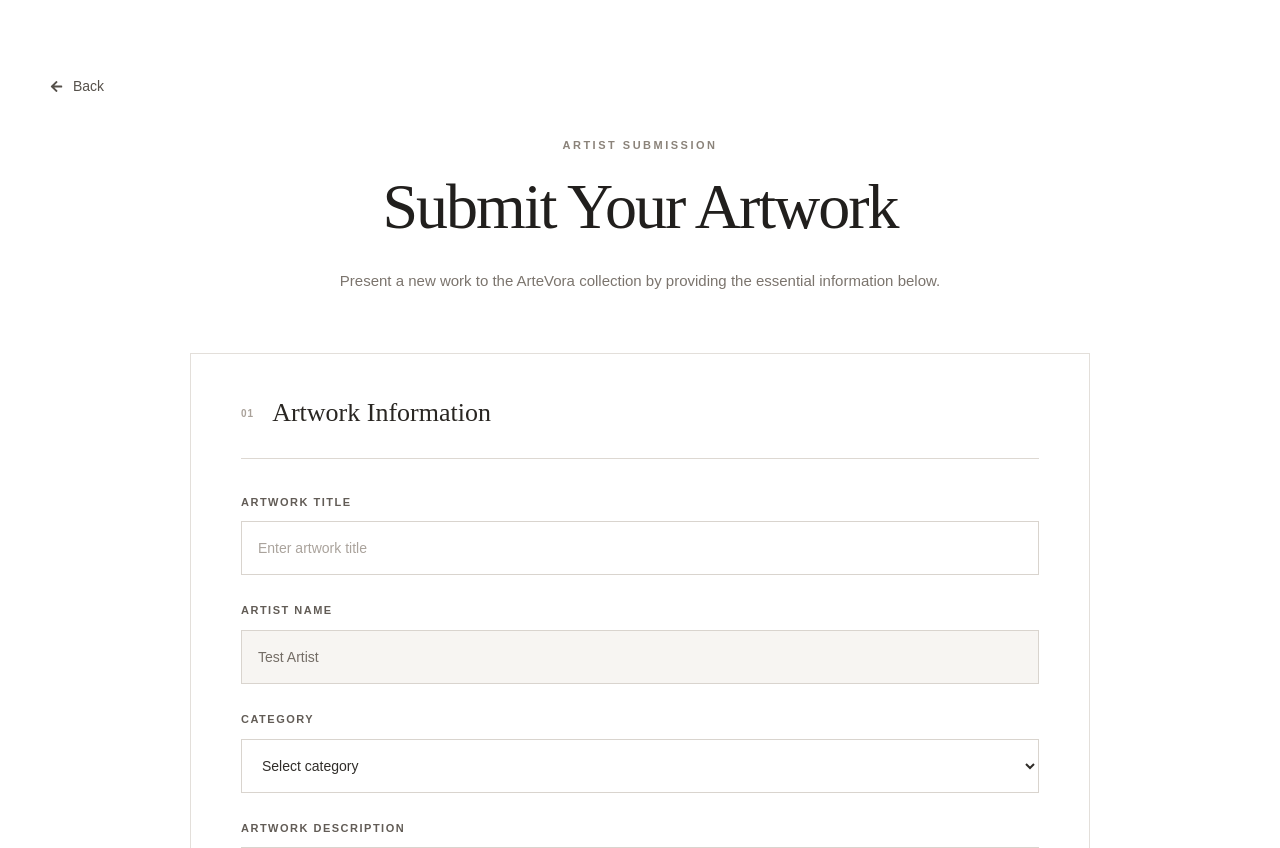
Test: Login page › should show validation error when artwork story is empty
In the field labelled "Artwork Title": (640, 548) [241,522,1039,576], type "Test Artwork"
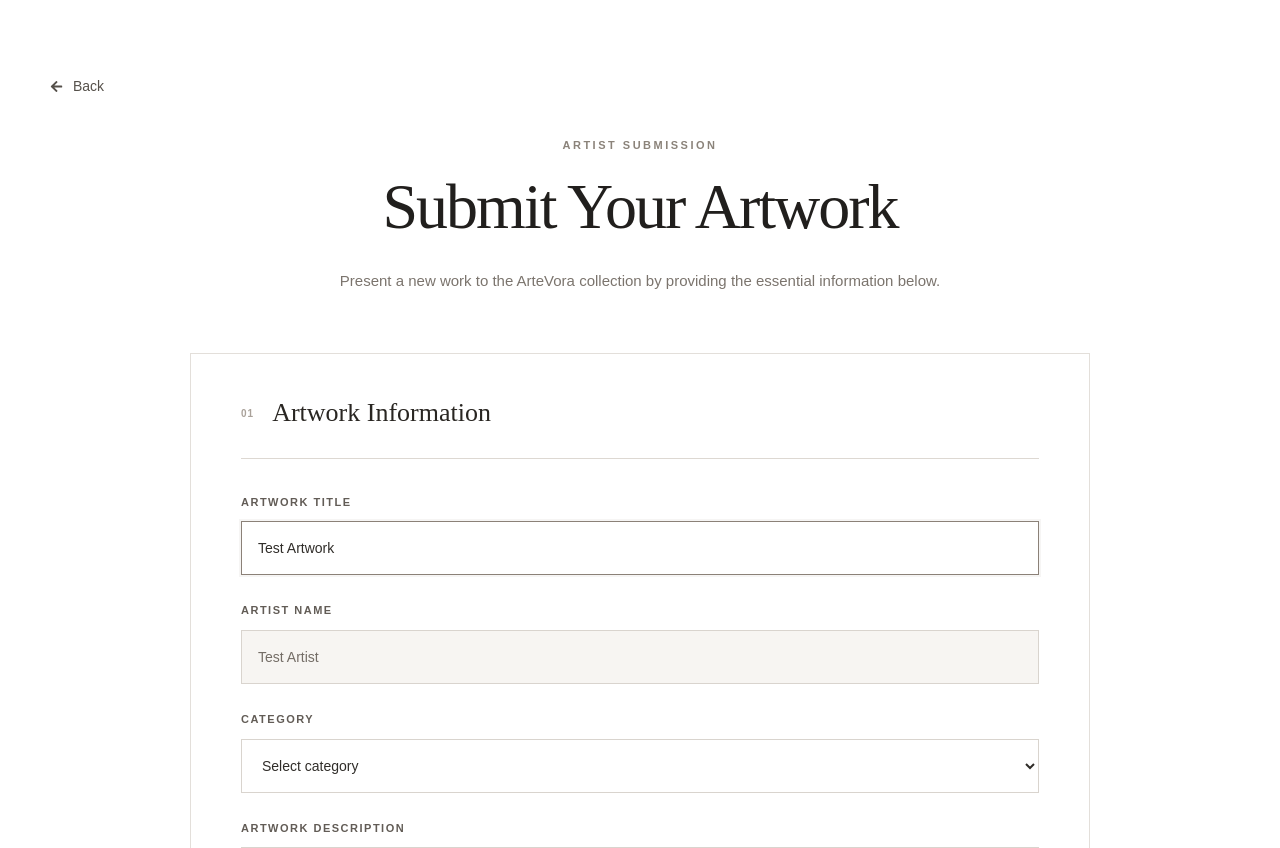
Select "Paintings" in the dropdown labelled "Category": (640, 766) [241,739,1039,793]
(page scrolled)
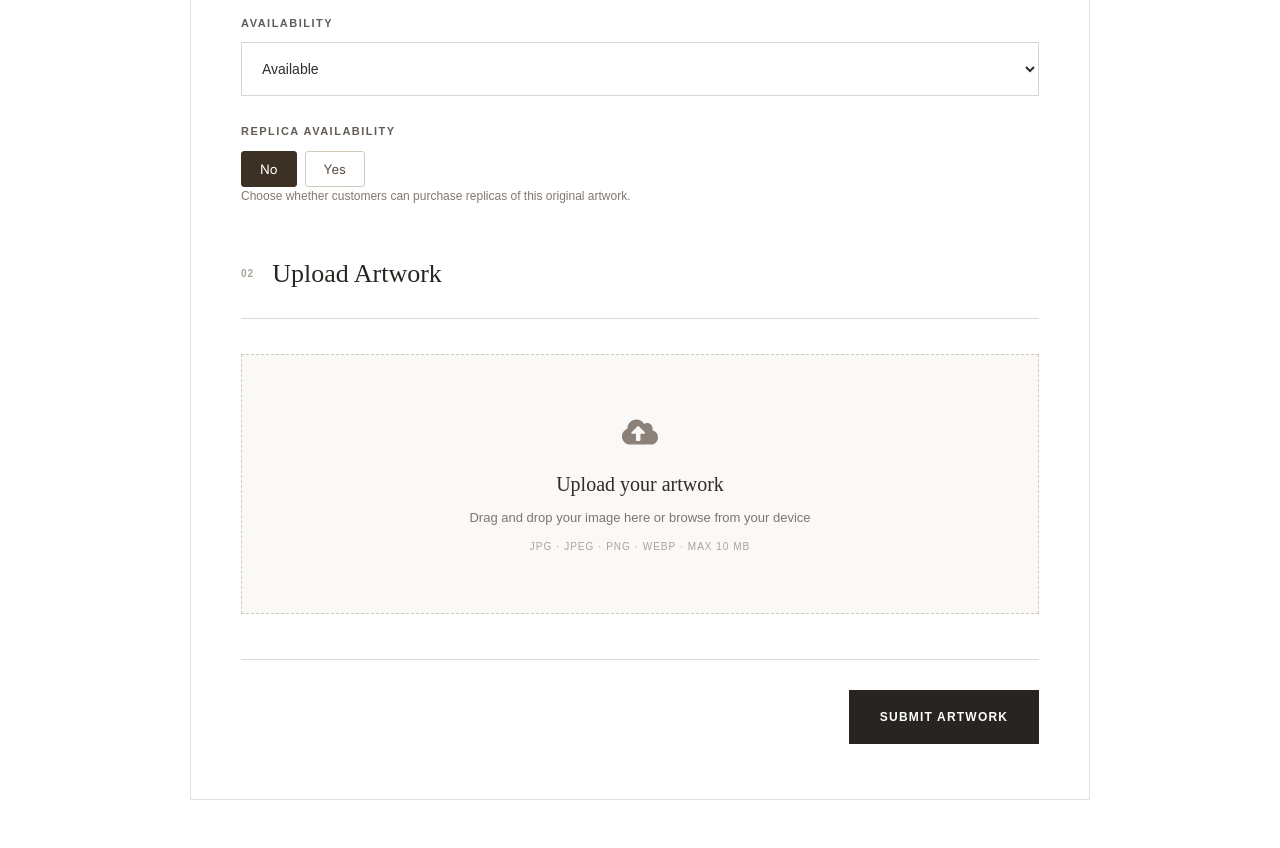
Click the button "Submit Artwork": (944, 717) [849,690,1039,744]
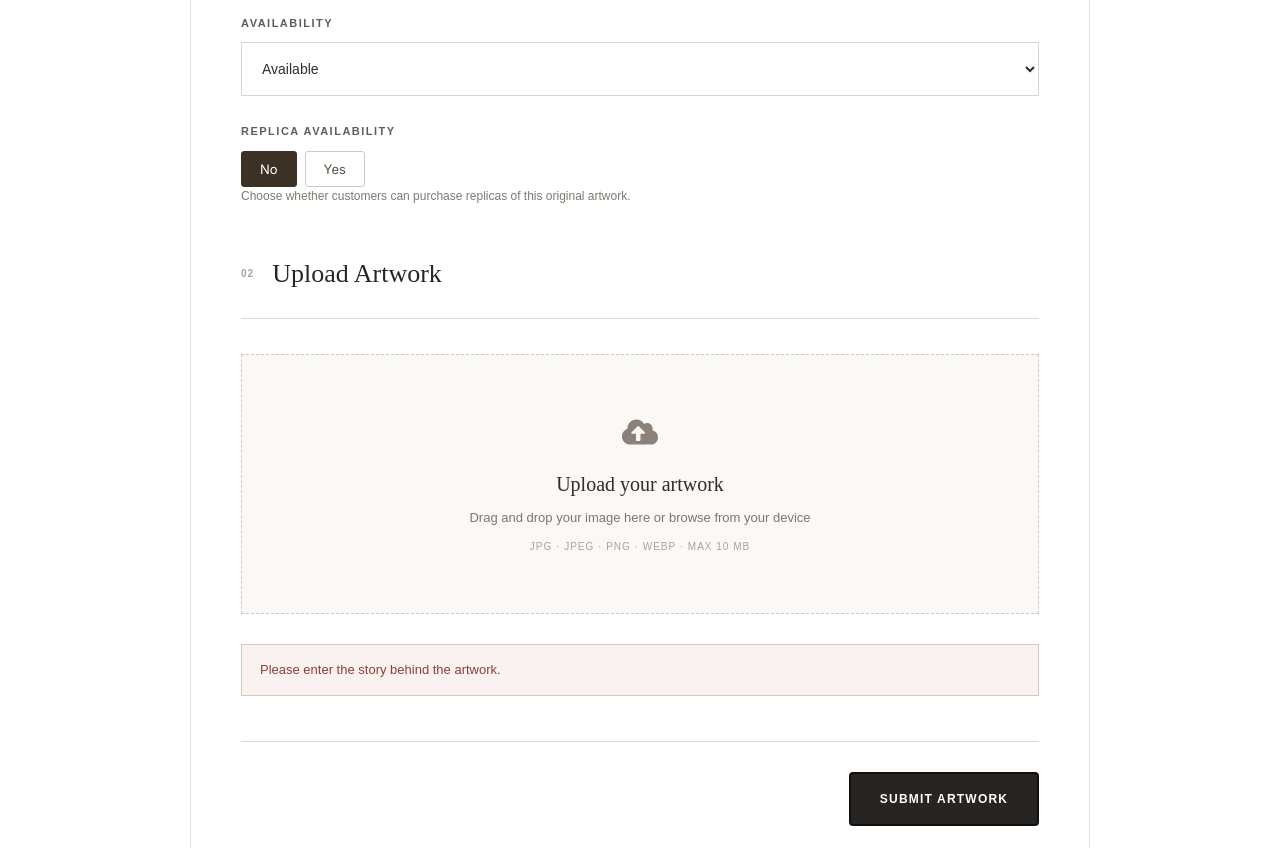
Check: the text "Please enter the story behind the artwork." is shown, box [241,644,1039,696]
